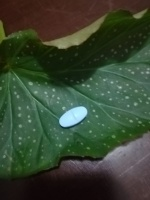Majezik: (58, 106, 89, 129)
